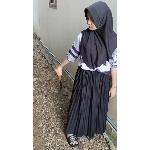Celurit: (49, 63, 63, 101)
